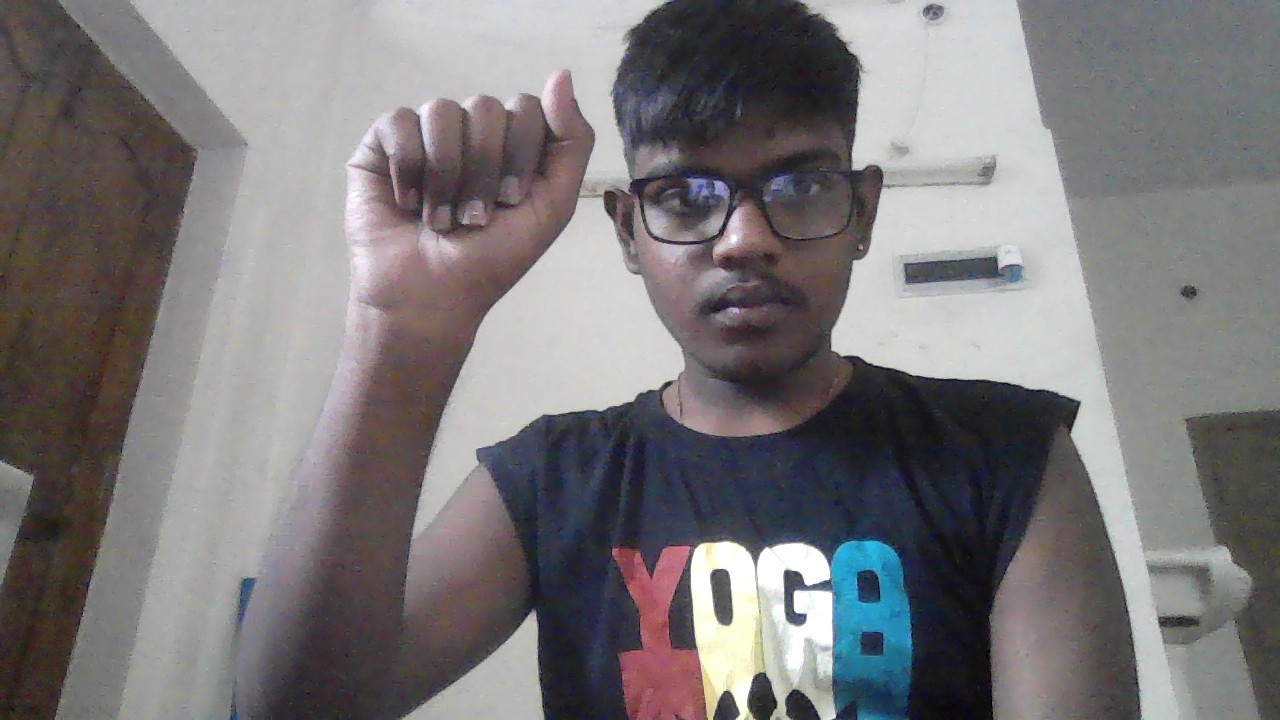A: (343, 70, 596, 330)
